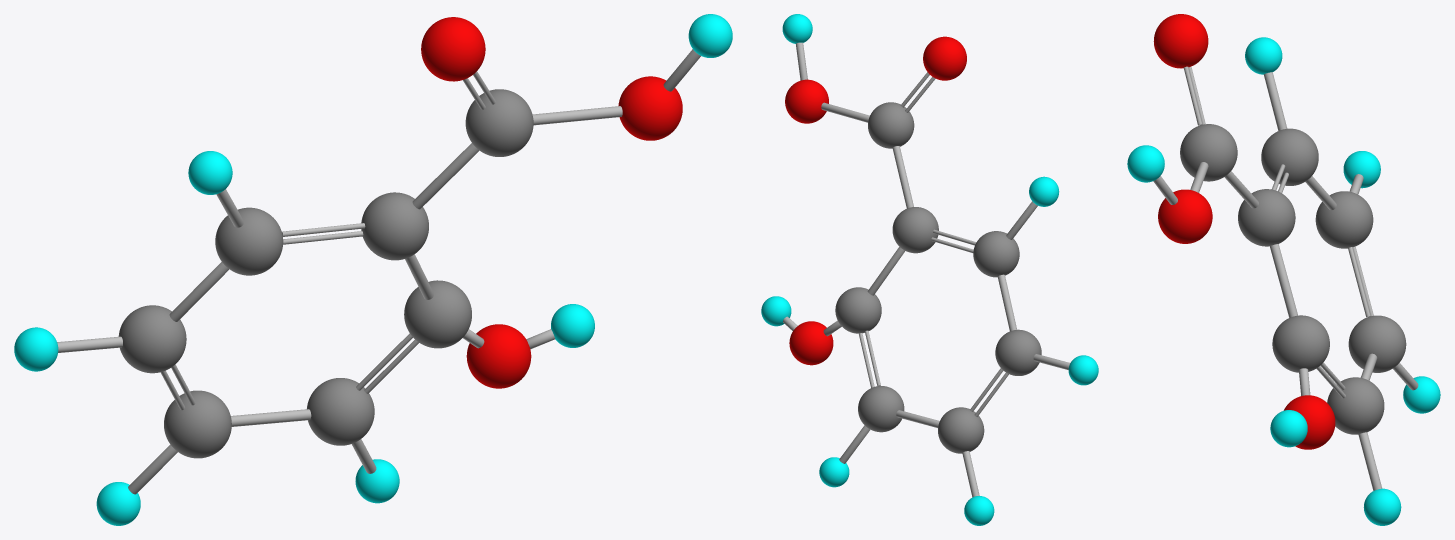
File: salicylic acid.glb
The picture shows the model from 3 angles, left to right: view 1: azimuth 30°, elevation 25°; view 2: azimuth 150°, elevation 25°; view 3: azimuth 270°, elevation 25°; orthographic projection. The views are drawn at different scales.
Visible parts, largest first — view 1: CMAtom_2, CMAtom_7, CMAtom_6, CMAtom_3, CMAtom_8, CMAtom_4, CMAtom_5, CMAtom_1, CMAtom_0, CMAtom_15, CMAtom_11, CMAtom_14 (+8 smaller); view 2: CMAtom_5, CMAtom_8, CMAtom_3, CMAtom_2, CMAtom_4, CMAtom_7, CMAtom_6, CMAtom_1, CMAtom_15, CMAtom_0, CMAtom_11, CMAtom_9 (+8 smaller); view 3: CMAtom_5, CMAtom_6, CMAtom_2, CMAtom_4, CMAtom_8, CMAtom_3, CMAtom_7, CMAtom_1, CMAtom_0, CMAtom_15, CMAtom_14, CMAtom_10 (+10 smaller).
Boxes of the visible parts, <box> form: CMAtom_2: <box>361,192,428,260</box>; CMAtom_7: <box>307,378,374,445</box>; CMAtom_6: <box>118,305,186,373</box>; CMAtom_3: <box>465,89,533,156</box>; CMAtom_8: <box>164,390,231,458</box>; CMAtom_4: <box>215,207,283,275</box>; CMAtom_5: <box>404,280,471,348</box>; CMAtom_1: <box>421,17,485,81</box>; CMAtom_0: <box>618,76,682,140</box>; CMAtom_15: <box>466,324,531,388</box>; CMAtom_11: <box>14,327,58,371</box>; CMAtom_14: <box>688,14,732,57</box>; CMAtom_5: <box>835,287,881,333</box>; CMAtom_8: <box>938,407,984,453</box>; CMAtom_3: <box>868,102,914,148</box>; CMAtom_2: <box>892,207,938,253</box>; CMAtom_4: <box>973,231,1019,277</box>; CMAtom_7: <box>858,386,904,432</box>; CMAtom_6: <box>995,329,1041,375</box>; CMAtom_1: <box>923,36,966,80</box>; CMAtom_15: <box>789,321,833,365</box>; CMAtom_0: <box>785,79,828,123</box>; CMAtom_11: <box>1068,355,1098,385</box>; CMAtom_9: <box>1029,176,1059,206</box>; CMAtom_5: <box>1272,315,1329,372</box>; CMAtom_6: <box>1315,191,1373,248</box>; CMAtom_2: <box>1238,189,1295,246</box>; CMAtom_4: <box>1261,128,1318,185</box>; CMAtom_8: <box>1348,315,1406,372</box>; CMAtom_3: <box>1180,124,1237,181</box>; CMAtom_7: <box>1327,377,1384,434</box>; CMAtom_1: <box>1153,14,1208,68</box>; CMAtom_0: <box>1158,189,1212,243</box>; CMAtom_15: <box>1284,395,1335,449</box>; CMAtom_14: <box>1127,145,1164,182</box>; CMAtom_10: <box>1270,410,1307,447</box>.
Bounding box in the file's own units: 6.12 × 5.79 × 3.35.
